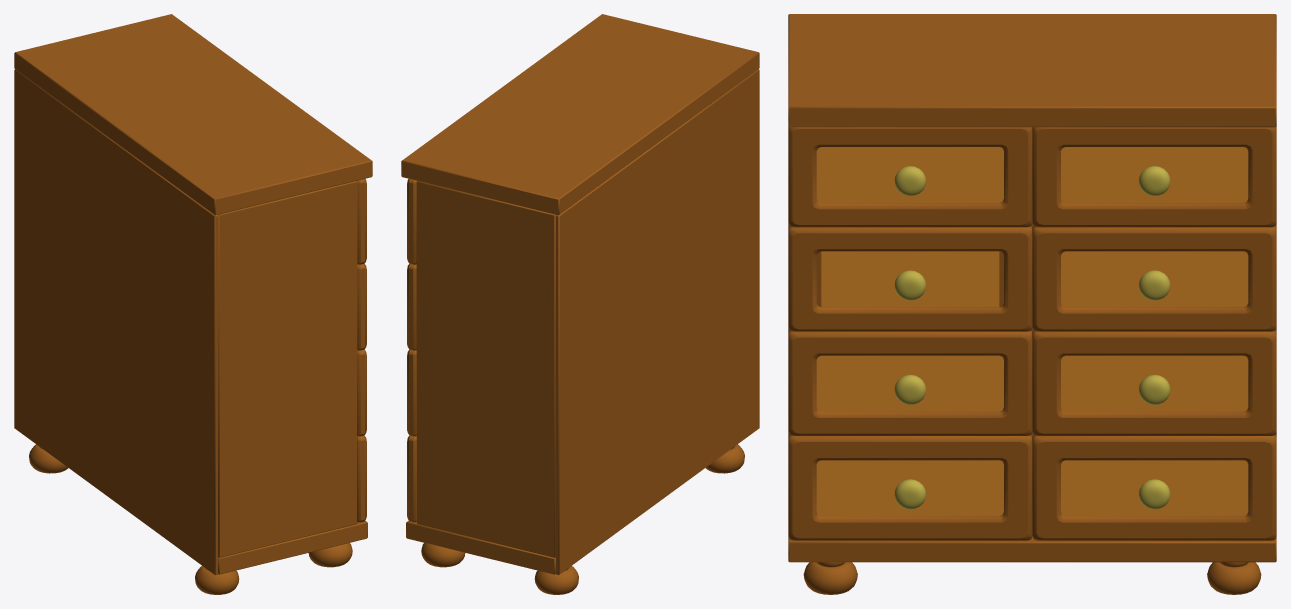
The model's file is Cabinate3.glb.
3 renders of one model, left to right at view 1: azimuth 30°, elevation 25°; view 2: azimuth 150°, elevation 25°; view 3: azimuth 270°, elevation 25°, orthographic. The views are drawn at different scales.
Visible parts, largest first — view 1: Cabinet, Cabinet_box1, Cabinet_box3, Cabinet_box5, Cabinet_box7; view 2: Cabinet, Cabinet_box2, Cabinet_box4, Cabinet_box6, Cabinet_box8; view 3: Cabinet, Cabinet_box3, Cabinet_box4, Cabinet_box1, Cabinet_box2, Cabinet_box5, Cabinet_box6, Cabinet_box7, Cabinet_box8.
Boxes of the visible parts, <box> form: Cabinet: <box>14,14,372,594</box>; Cabinet_box1: <box>357,435,366,522</box>; Cabinet_box3: <box>357,349,366,436</box>; Cabinet_box5: <box>357,263,366,350</box>; Cabinet_box7: <box>357,179,366,264</box>; Cabinet: <box>401,14,759,594</box>; Cabinet_box2: <box>407,435,416,522</box>; Cabinet_box4: <box>407,349,416,436</box>; Cabinet_box6: <box>407,263,416,350</box>; Cabinet_box8: <box>407,179,416,264</box>; Cabinet: <box>788,14,1276,594</box>; Cabinet_box3: <box>788,330,1032,435</box>; Cabinet_box4: <box>1032,330,1276,435</box>; Cabinet_box1: <box>788,435,1032,540</box>; Cabinet_box2: <box>1032,435,1276,540</box>; Cabinet_box5: <box>788,226,1032,331</box>; Cabinet_box6: <box>1032,226,1276,331</box>; Cabinet_box7: <box>788,126,1032,227</box>; Cabinet_box8: <box>1032,126,1276,227</box>.
Bounding box in the file's own units: 0.4497 × 1.05 × 0.9371.
